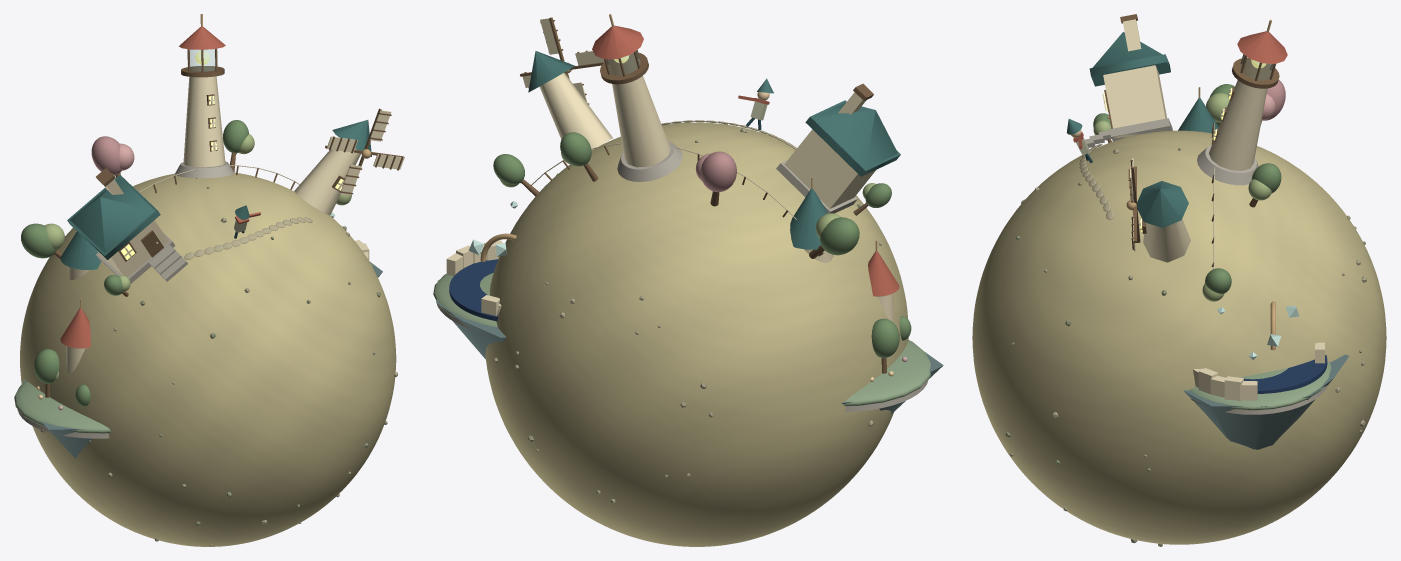
Rendered from dream-worlds.glb.
3 renders of one model, left to right at view 1: azimuth 30°, elevation 25°; view 2: azimuth 150°, elevation 25°; view 3: azimuth 270°, elevation 25°, orthographic. The views are drawn at different scales.
Visible parts, largest first — view 1: Dream_planet_surface_ffffff, Dream_planet_surface_ecdfba, Dream_planet_surface_45716d, Cloud_castles_surface_8da283, Dream_planet_surface_b3ada0, Dream_planet_surface_718d64, Dream_planet_surface_785f45, Cloud_castles_surface_718d64, Cloud_castles_surface_45716d, Dream_planet_surface_b98e8e, Dream_planet_surface_a5b581, Cloud_castles_surface_af6250 (+5 smaller); view 2: Dream_planet_surface_ffffff, Dream_planet_surface_ecdfba, Dream_planet_surface_45716d, Cloud_castles_surface_8da283, Dream_planet_surface_718d64, Dream_planet_surface_785f45, Dream_planet_surface_b3ada0, Cloud_castles_surface_283f61, Cloud_castles_surface_ecdfba, Cloud_castles_surface_45716d, Dream_planet_surface_af6250, Cloud_castles_surface_6b8280 (+4 smaller); view 3: Dream_planet_surface_ffffff, Dream_planet_surface_ecdfba, Dream_planet_surface_45716d, Cloud_castles_surface_6b8280, Dream_planet_surface_b3ada0, Cloud_castles_surface_8da283, Cloud_castles_surface_ecdfba, Dream_planet_surface_785f45, Dream_planet_surface_718d64, Cloud_castles_surface_283f61, Dream_planet_surface_af6250, Dream_planet_surface_a5b581 (+3 smaller).
Part boxes in pixels (<box>): Dream_planet_surface_ffffff: <box>20,172,396,546</box>; Dream_planet_surface_ecdfba: <box>97,76,361,277</box>; Dream_planet_surface_45716d: <box>67,120,371,259</box>; Cloud_castles_surface_8da283: <box>14,262,372,433</box>; Dream_planet_surface_b3ada0: <box>96,161,234,283</box>; Dream_planet_surface_718d64: <box>21,120,248,295</box>; Dream_planet_surface_785f45: <box>54,48,344,296</box>; Cloud_castles_surface_718d64: <box>34,349,90,406</box>; Cloud_castles_surface_45716d: <box>60,231,100,269</box>; Dream_planet_surface_b98e8e: <box>91,136,121,175</box>; Dream_planet_surface_a5b581: <box>44,134,351,291</box>; Cloud_castles_surface_af6250: <box>60,308,90,348</box>; Dream_planet_surface_ffffff: <box>485,122,908,546</box>; Dream_planet_surface_ecdfba: <box>539,72,875,208</box>; Dream_planet_surface_45716d: <box>528,51,900,176</box>; Cloud_castles_surface_8da283: <box>433,273,930,406</box>; Dream_planet_surface_718d64: <box>493,132,891,255</box>; Dream_planet_surface_785f45: <box>520,50,873,258</box>; Dream_planet_surface_b3ada0: <box>617,140,857,213</box>; Cloud_castles_surface_283f61: <box>449,259,498,321</box>; Cloud_castles_surface_ecdfba: <box>446,240,893,321</box>; Cloud_castles_surface_45716d: <box>790,188,828,249</box>; Dream_planet_surface_af6250: <box>592,25,769,104</box>; Cloud_castles_surface_6b8280: <box>437,279,943,414</box>; Dream_planet_surface_ffffff: <box>972,130,1386,544</box>; Dream_planet_surface_ecdfba: <box>1102,19,1267,262</box>; Dream_planet_surface_45716d: <box>1066,32,1188,227</box>; Cloud_castles_surface_6b8280: <box>1183,354,1349,449</box>; Dream_planet_surface_b3ada0: <box>1085,118,1258,185</box>; Cloud_castles_surface_8da283: <box>1189,361,1331,410</box>; Cloud_castles_surface_ecdfba: <box>1193,342,1324,401</box>; Dream_planet_surface_785f45: <box>1104,14,1279,266</box>; Dream_planet_surface_718d64: <box>1093,84,1281,293</box>; Cloud_castles_surface_283f61: <box>1244,355,1327,393</box>; Dream_planet_surface_af6250: <box>1073,31,1287,149</box>; Dream_planet_surface_a5b581: <box>1093,93,1271,301</box>.
Size of the model in its own units: 7.3 by 8.66 by 6.2.
